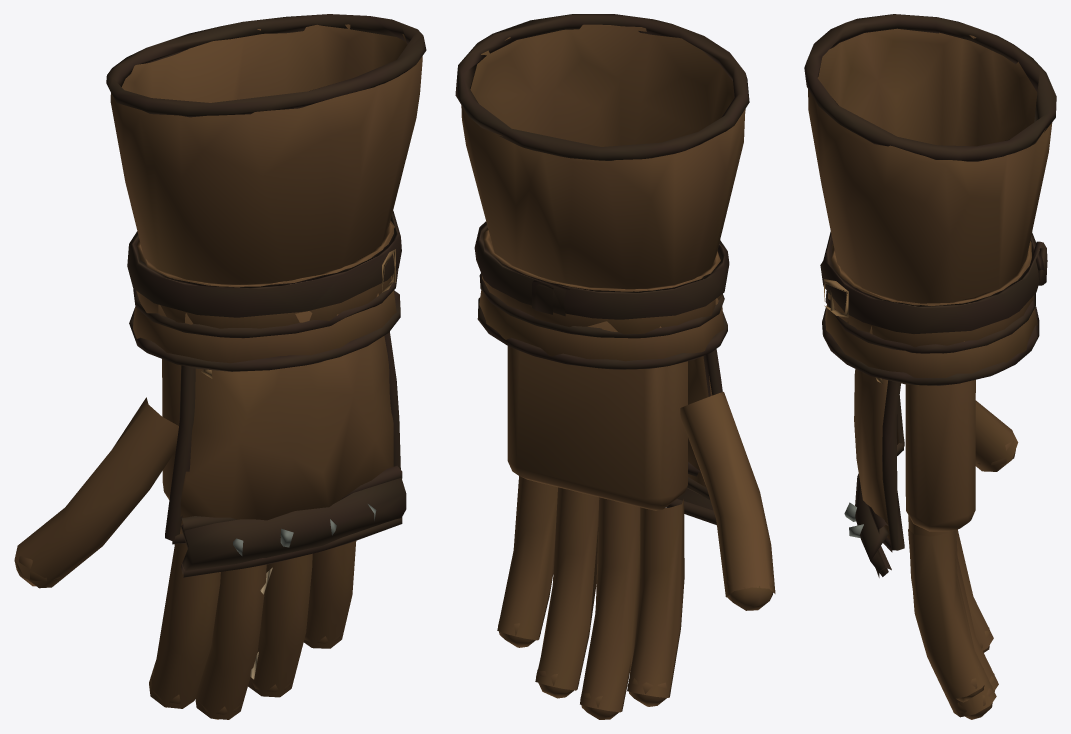
The picture shows the model from 3 angles, left to right: view 1: azimuth 30°, elevation 25°; view 2: azimuth 150°, elevation 25°; view 3: azimuth 270°, elevation 25°; orthographic projection. The views are drawn at different scales.
Visible parts, largest first — view 1: tanned leather, weathered plate; view 2: tanned leather; view 3: tanned leather, weathered plate.
Boxes of the visible parts, x1,y1,x2,y2 form: tanned leather: [14, 14, 426, 719]; weathered plate: [201, 249, 395, 555]; tanned leather: [455, 14, 775, 719]; tanned leather: [804, 14, 1056, 719]; weathered plate: [824, 279, 882, 538].
Size of the model in its own units: 0.1668 by 0.3031 by 0.1063.
